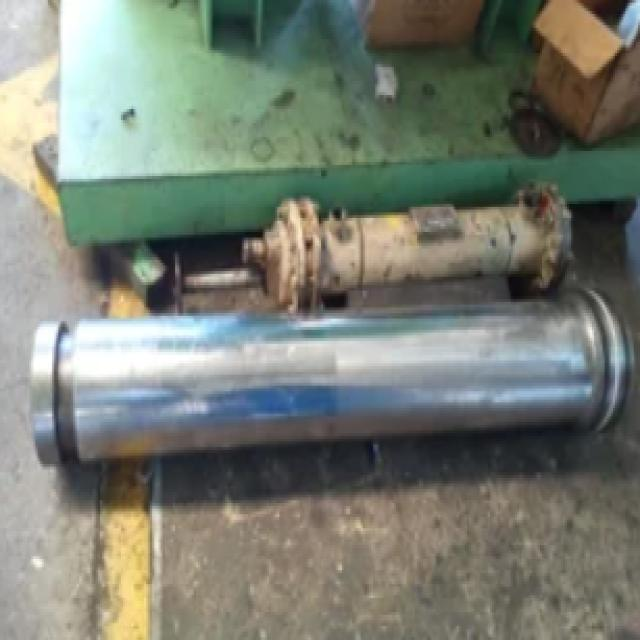Cylinder: (31, 290, 631, 462)
